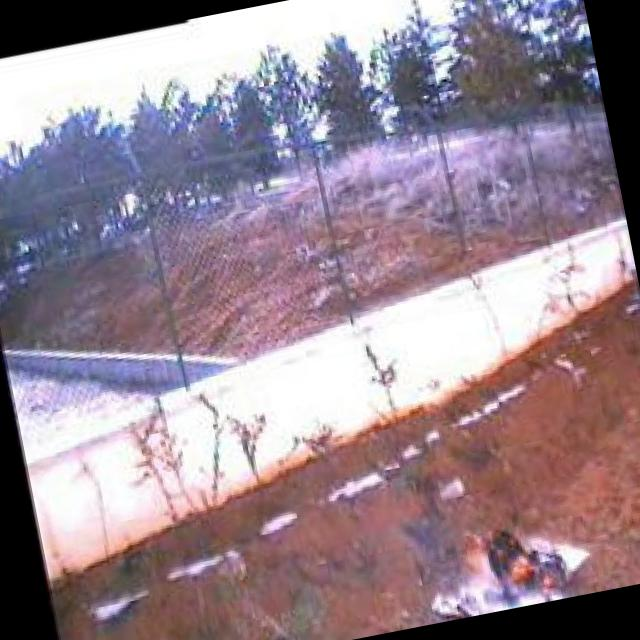Fire: (452, 505, 584, 617)
